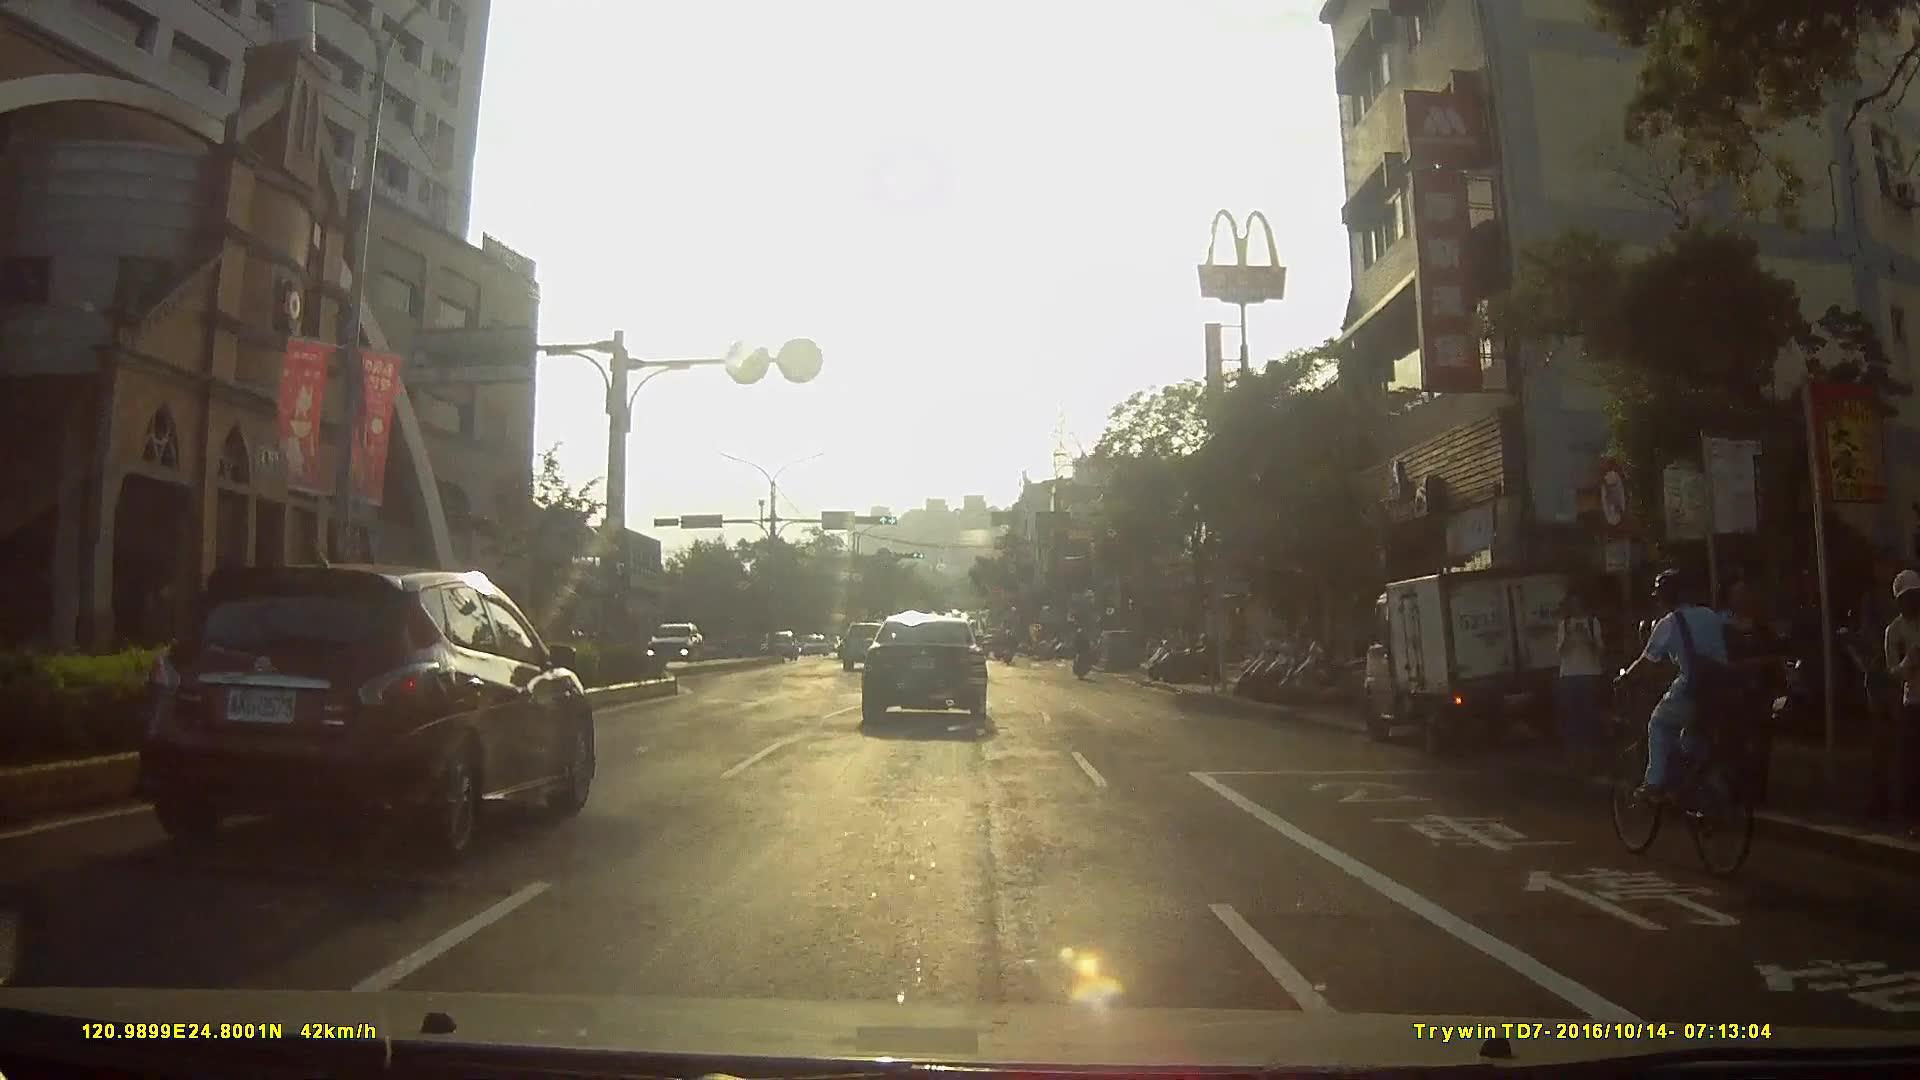pedestrian: (1728, 568, 1802, 824), (1554, 586, 1608, 776), (1882, 575, 1917, 826)
rider: (1605, 564, 1758, 882), (1071, 625, 1097, 685)
vehicle: (120, 560, 604, 856), (1355, 553, 1614, 763), (861, 611, 1004, 735), (837, 619, 896, 674), (638, 621, 706, 669), (748, 628, 790, 664), (792, 631, 826, 657)
